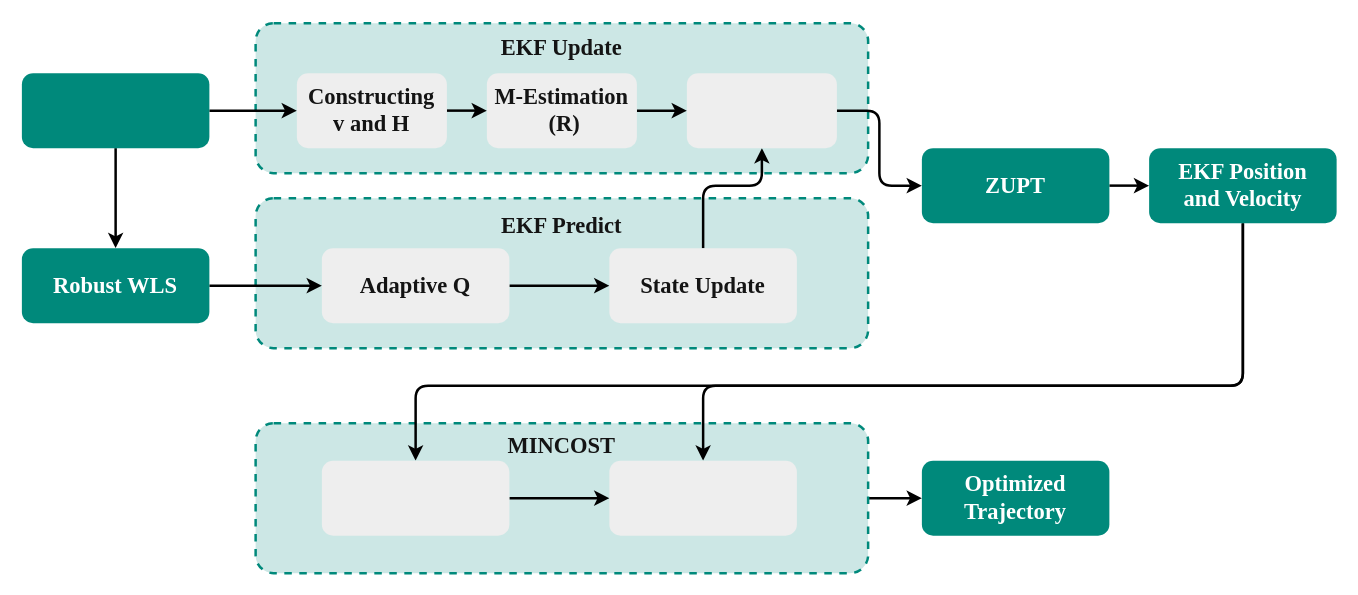
This 1358x595 diagram has some shape labels left out. Each missing label, with the centre of its shape:
Filter: the point at 761,110
Global Optimization: the point at 702,497
QP based smoothing: the point at 415,497
Raw GNSS Measurements: the point at 115,110
